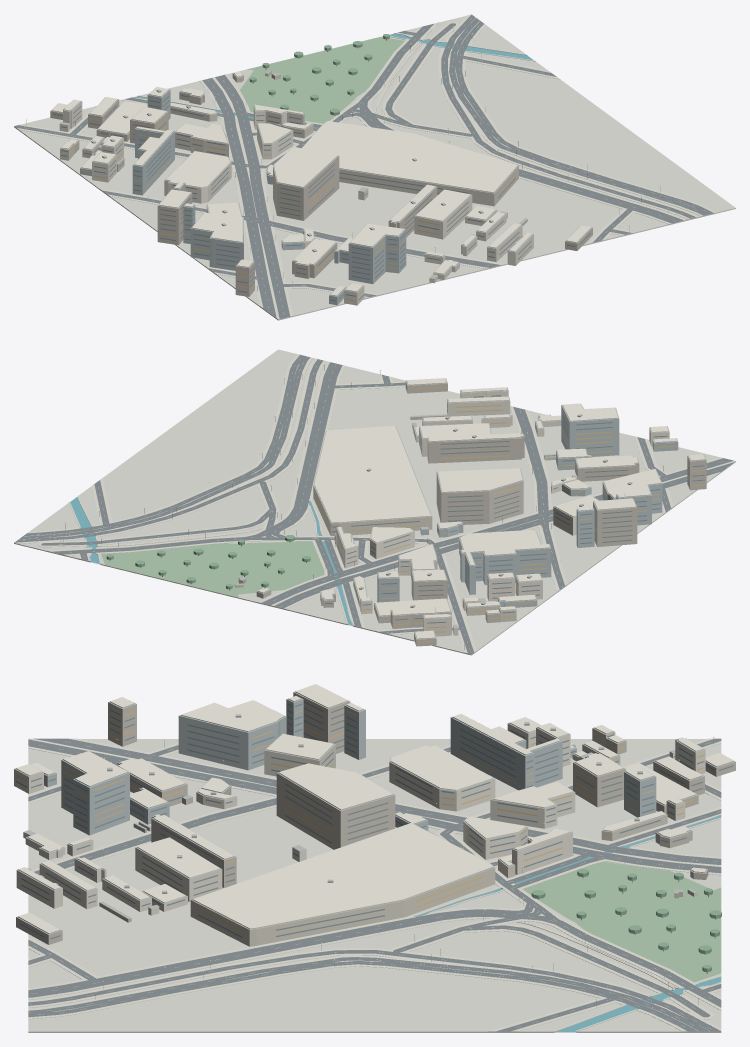
The picture shows the model from 3 angles, top to bottom: view 1: azimuth 30°, elevation 25°; view 2: azimuth 150°, elevation 25°; view 3: azimuth 270°, elevation 25°; orthographic projection. The views are drawn at different scales.
Visible parts, largest first — view 1: city; view 2: city; view 3: city.
Boxes of the visible parts, box(x1,y1,x2,y2) form: city: box(14, 14, 735, 320); city: box(14, 349, 735, 655); city: box(14, 684, 735, 1032).
Bounding box in the file's own units: 512 × 40.95 × 521.
